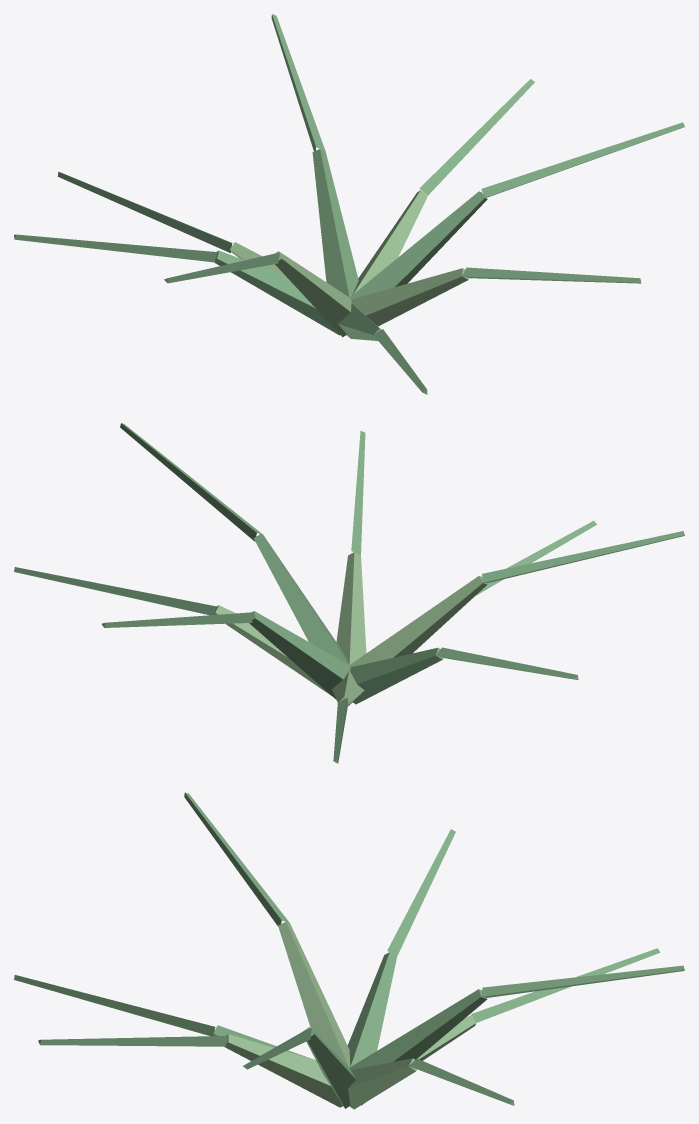
Rendered from fern_v11.glb.
3 views of the same model, one above another, from view 1: azimuth 30°, elevation 25°; view 2: azimuth 150°, elevation 25°; view 3: azimuth 270°, elevation 25° (orthographic). The views are drawn at different scales.
Visible parts, largest first — view 1: lod0; view 2: lod0; view 3: lod0.
Part boxes in pixels (x1,y1,x2,y2): lod0: [14, 14, 684, 394]; lod0: [14, 423, 684, 763]; lod0: [14, 792, 684, 1109].
Size of what is drawn, in the model's own units: 1.19 by 0.3612 by 1.19.
